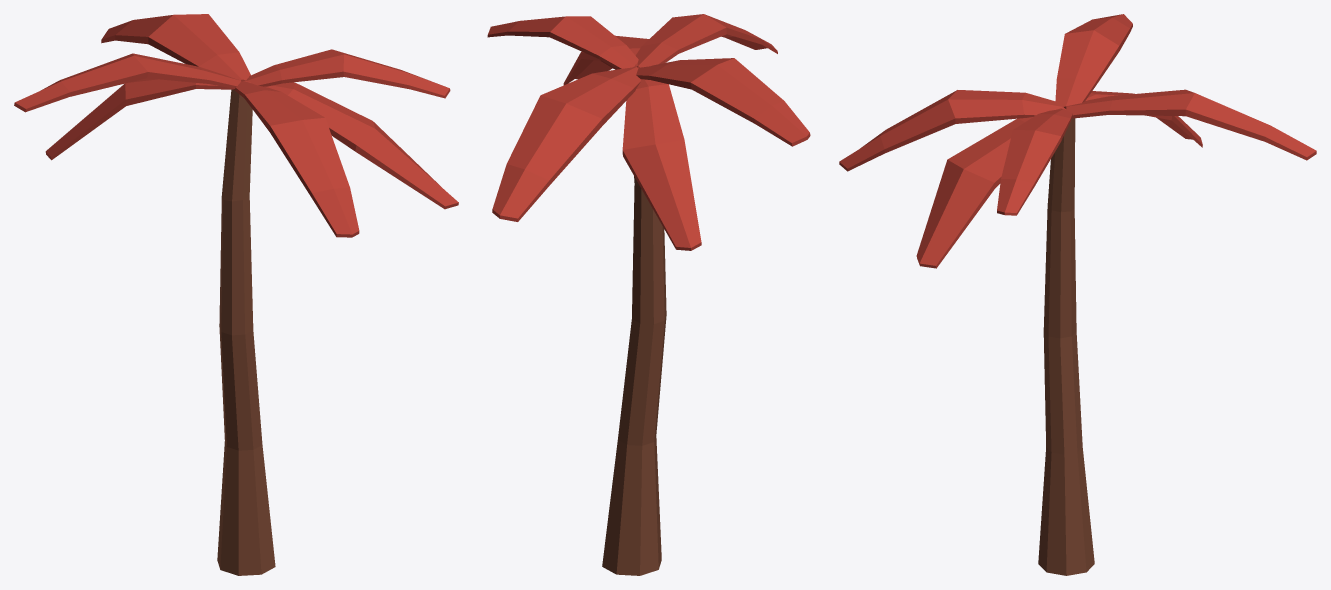
Rendered from Tree_38_summer_red_vc.fbx.
3 views of the same model, side by side, from view 1: azimuth 30°, elevation 25°; view 2: azimuth 150°, elevation 25°; view 3: azimuth 270°, elevation 25° (orthographic). The views are drawn at different scales.
Visible parts, largest first — view 1: Tree_38_summer_red_vc; view 2: Tree_38_summer_red_vc; view 3: Tree_38_summer_red_vc.
Boxes of the visible parts, x1,y1,x2,y2 form: Tree_38_summer_red_vc: (14, 14, 458, 575); Tree_38_summer_red_vc: (487, 14, 810, 575); Tree_38_summer_red_vc: (839, 14, 1316, 575).
Size of the model in its own units: 160 by 214 by 189.
